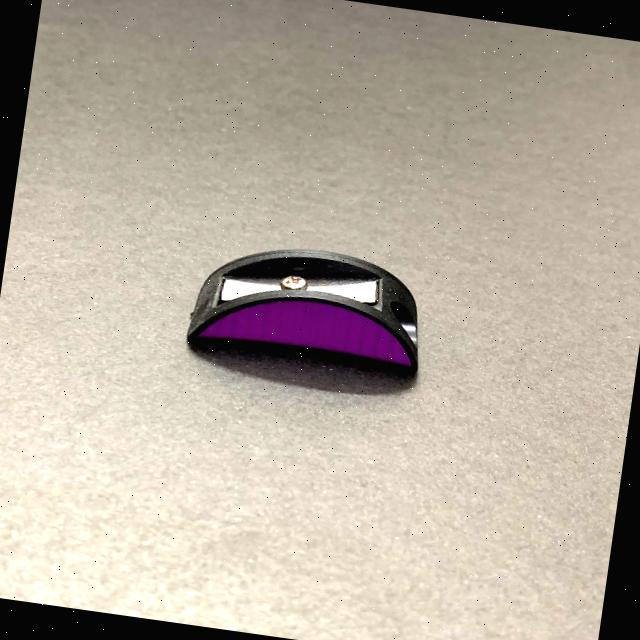Sharpner: (139, 201, 471, 402)
